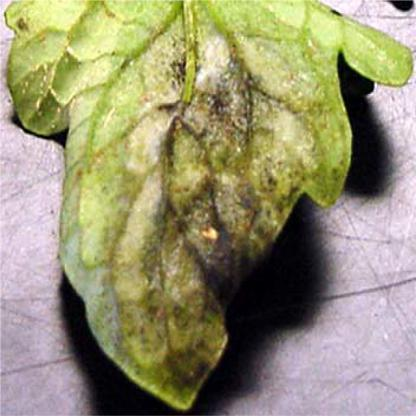Tomato leaf late blight: (8, 8, 411, 407)
